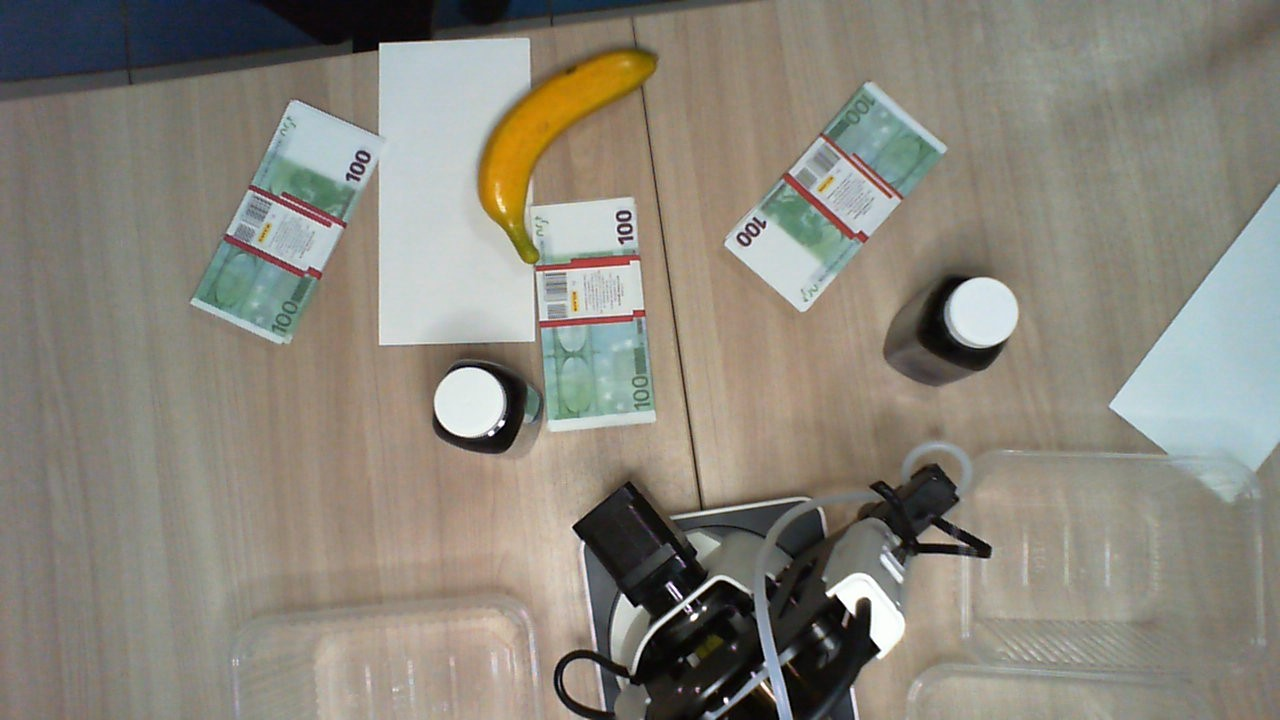banana: (477, 48, 659, 262)
bottle: (430, 360, 527, 455), (922, 271, 1017, 366)
convert: (1105, 180, 1279, 501), (378, 35, 537, 349)
money: (723, 78, 951, 314), (191, 100, 388, 345), (530, 195, 658, 435)
